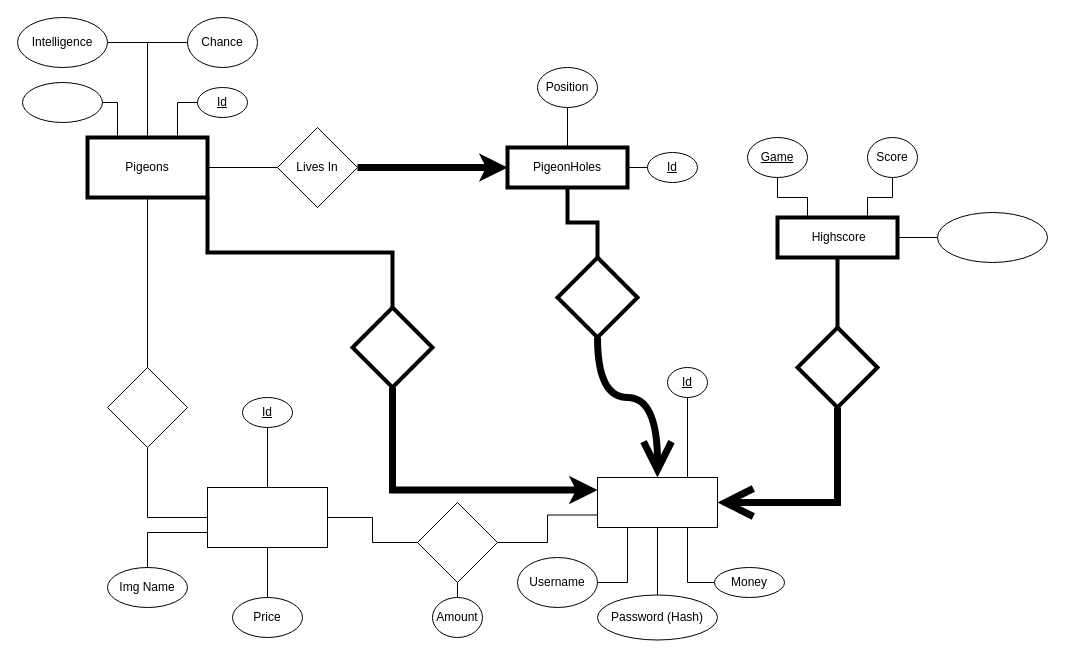
The diagram is 1065 pixels wide and 658 high, and some of its shapes have lost their labels. Each missing label, with the box of its shape:
Constitution: (22, 82, 102, 122)
First Owner: (350, 305, 434, 389)
Got: (795, 325, 879, 409)
Hats: (206, 486, 328, 548)
Manages: (555, 255, 639, 339)
Owns: (416, 502, 498, 582)
Players: (596, 476, 718, 528)
Score Time: (936, 212, 1048, 262)
Wears: (106, 366, 188, 448)
